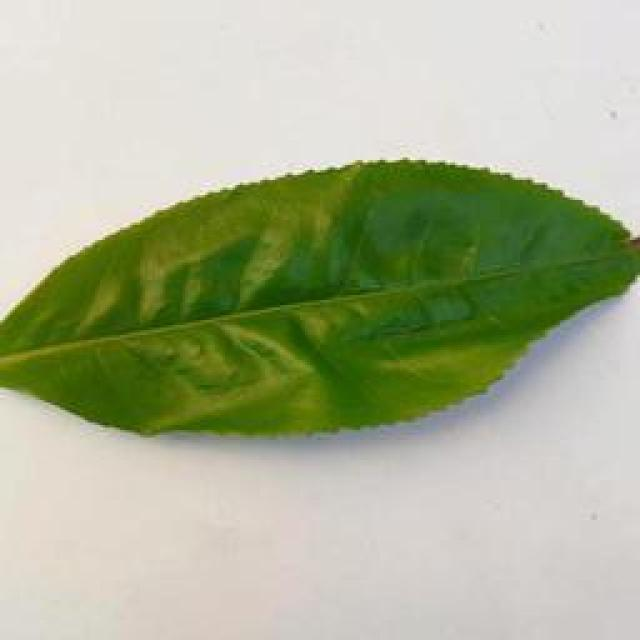Healthy: (0, 160, 640, 438)
